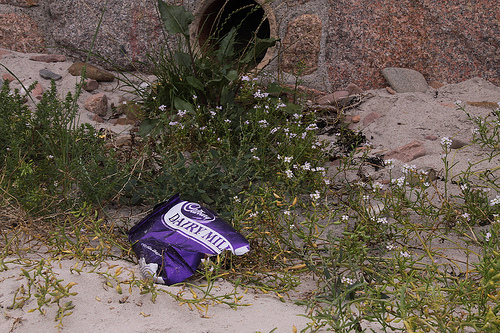litter: (129, 193, 251, 286)
